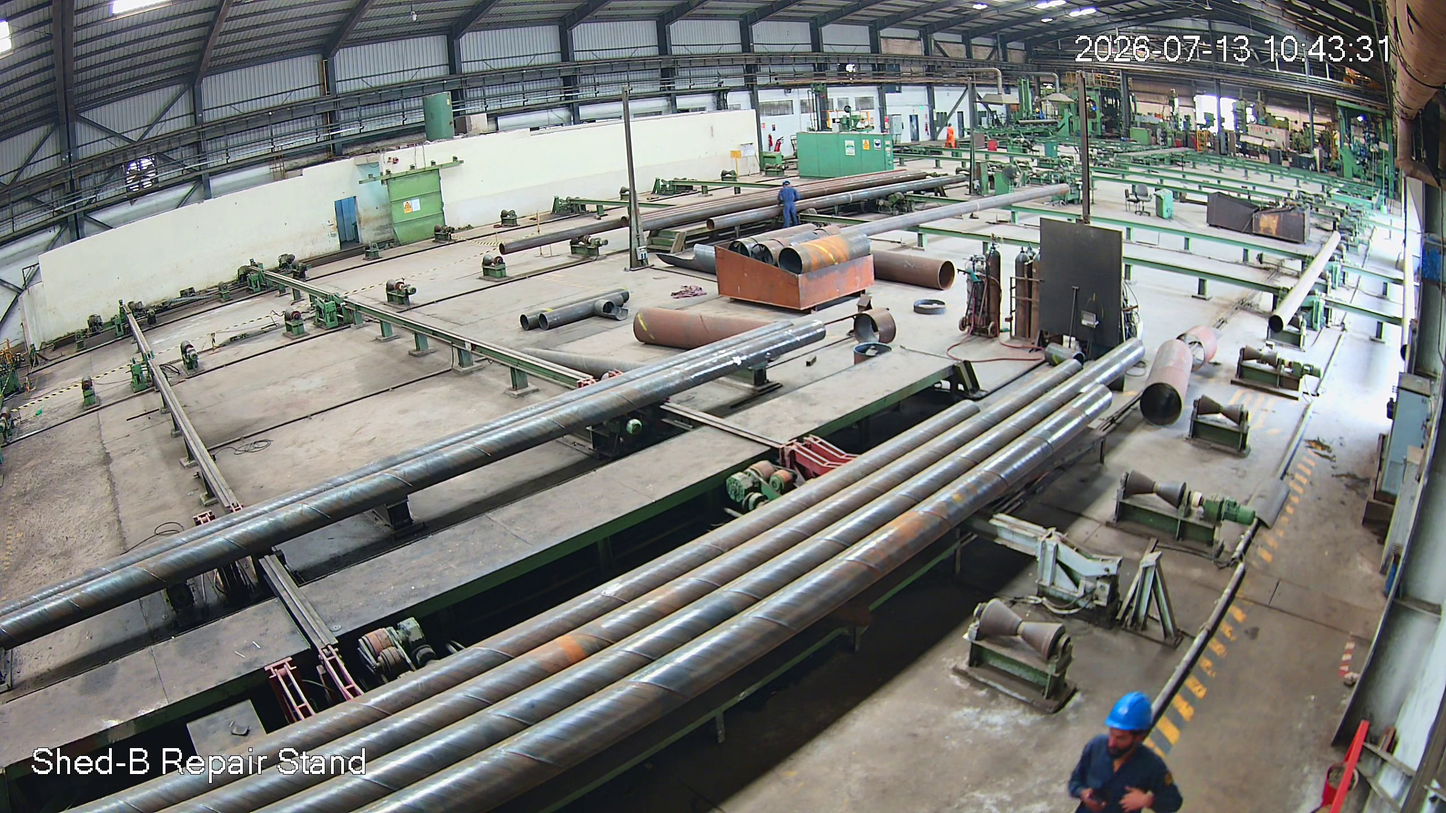Helmet: (1090, 681, 1168, 773)
Person: (1053, 687, 1203, 813)
